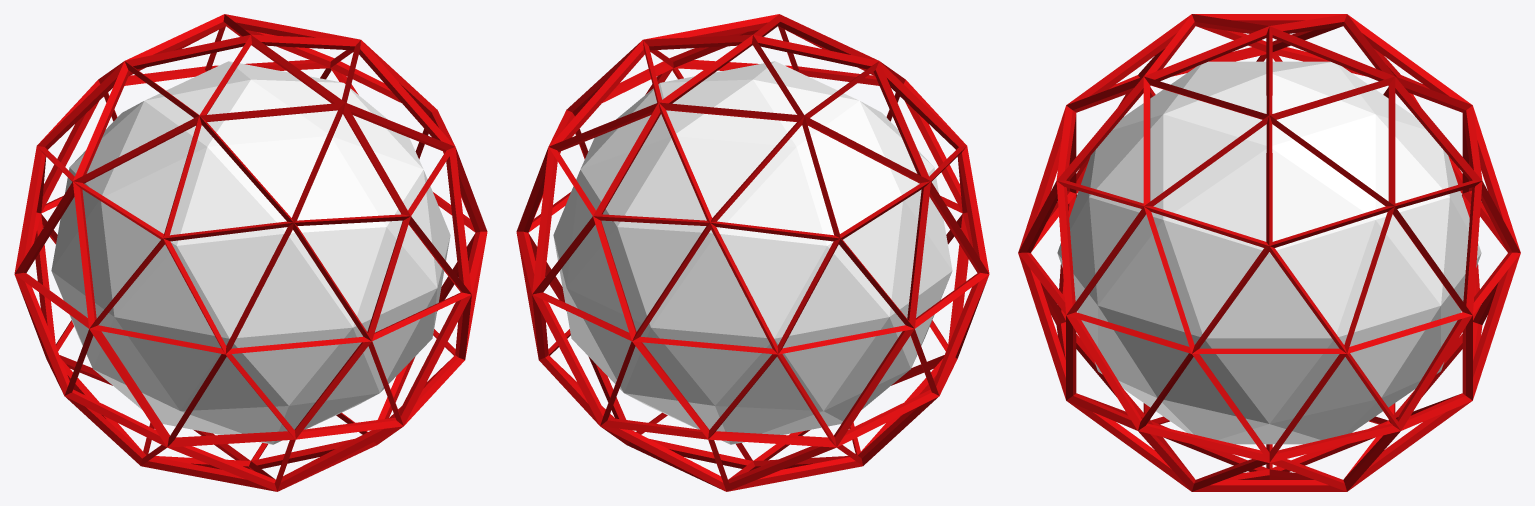
File: globe.glb
The picture shows the model from 3 angles, left to right: view 1: azimuth 30°, elevation 25°; view 2: azimuth 150°, elevation 25°; view 3: azimuth 270°, elevation 25°; orthographic projection. The views are drawn at different scales.
Parts seen in each view (by area): view 1: ball, frame; view 2: ball, frame; view 3: ball, frame.
Part boxes in pixels (x1=…): ball: x1=51, y1=61, x2=450, y2=444; frame: x1=14, y1=14, x2=487, y2=491; ball: x1=553, y1=61, x2=952, y2=444; frame: x1=516, y1=14, x2=989, y2=491; ball: x1=1057, y1=61, x2=1481, y2=444; frame: x1=1018, y1=14, x2=1520, y2=491.
Size of the model in its own units: 1.8 by 1.89 by 1.9.
